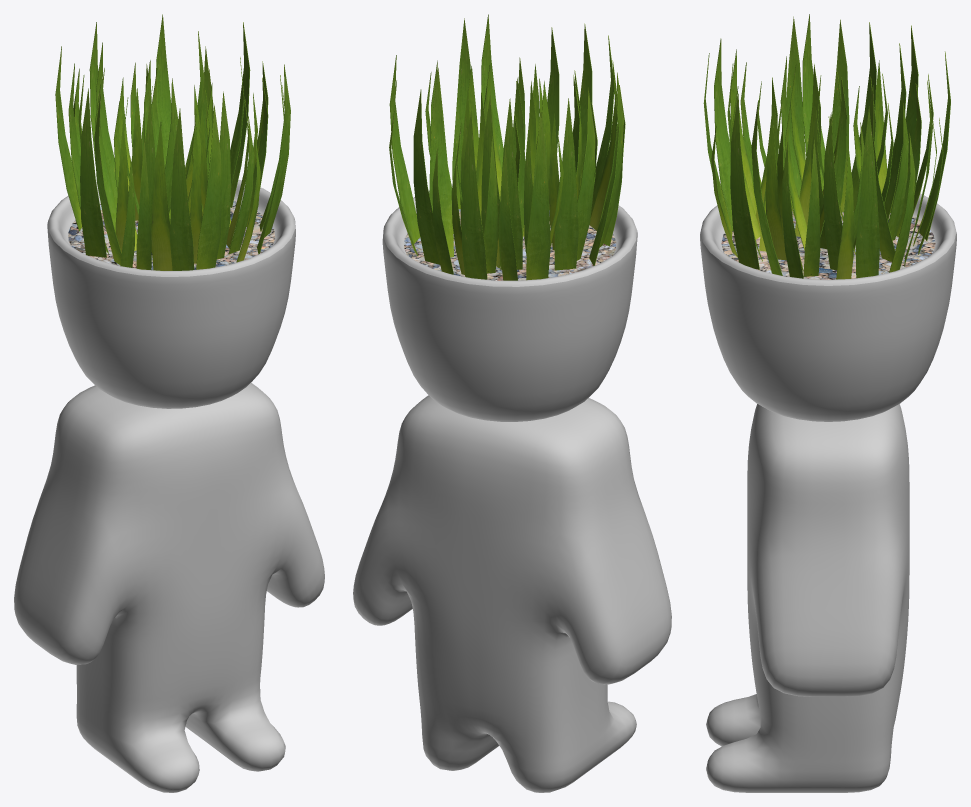
File: Decor_Pot01.FBX
3 views of the same model, side by side, from view 1: azimuth 30°, elevation 25°; view 2: azimuth 150°, elevation 25°; view 3: azimuth 270°, elevation 25° (orthographic). The views are drawn at different scales.
Parts seen in each view (by area): view 1: Decor_Pot01; view 2: Decor_Pot01; view 3: Decor_Pot01.
Part boxes in pixels (box(x1,y1,x2,y2)): Decor_Pot01: box(14, 14, 324, 792); Decor_Pot01: box(353, 14, 671, 792); Decor_Pot01: box(700, 14, 956, 792).
Size of the model in its own units: 0.7959 by 1.95 by 0.6401.
